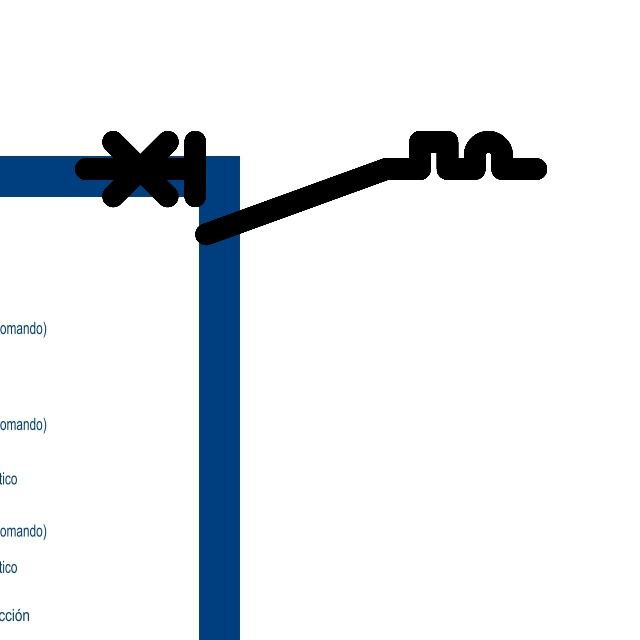interruptor_termomagnetico: (74, 130, 548, 246)
